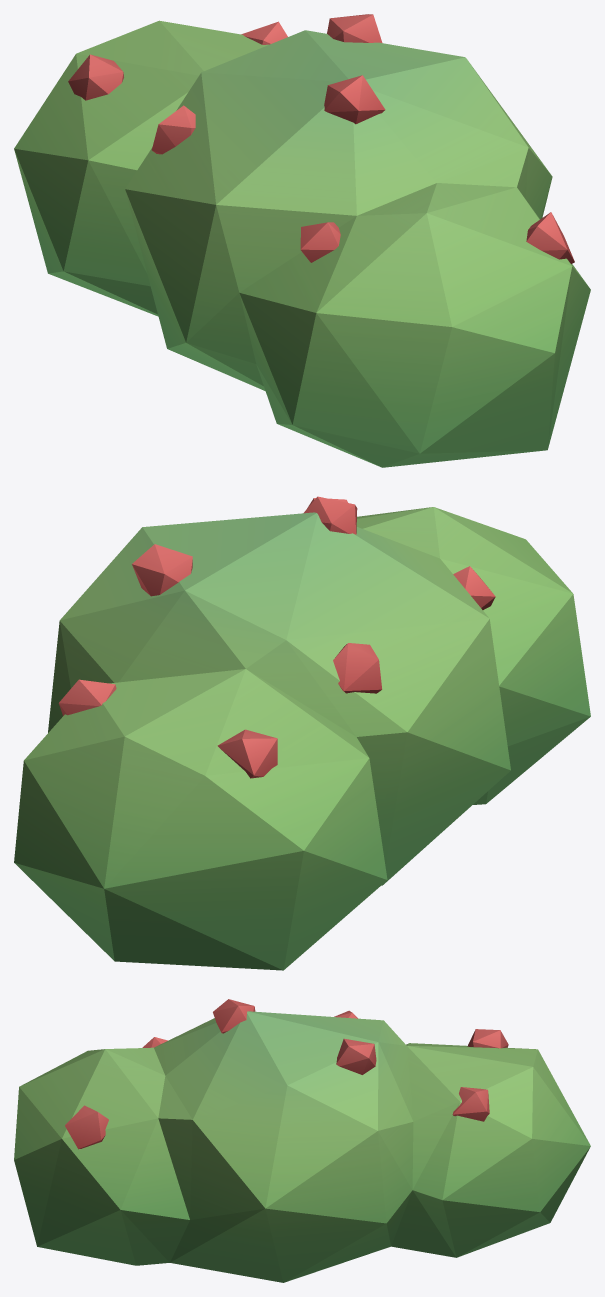
Rendered from bush2.glb.
3 renders of one model, top to bottom at view 1: azimuth 30°, elevation 25°; view 2: azimuth 150°, elevation 25°; view 3: azimuth 270°, elevation 25°, orthographic. The views are drawn at different scales.
Parts seen in each view (by area): view 1: Bush Berry; view 2: Bush Berry; view 3: Bush Berry.
Part boxes in pixels (box(x1,y1,x2,y2)): Bush Berry: box(14, 14, 590, 467); Bush Berry: box(14, 496, 590, 970); Bush Berry: box(14, 999, 590, 1282).
Bounding box in the file's own units: 4.5 × 3.2 × 7.56.
1 material, 1 textured.
